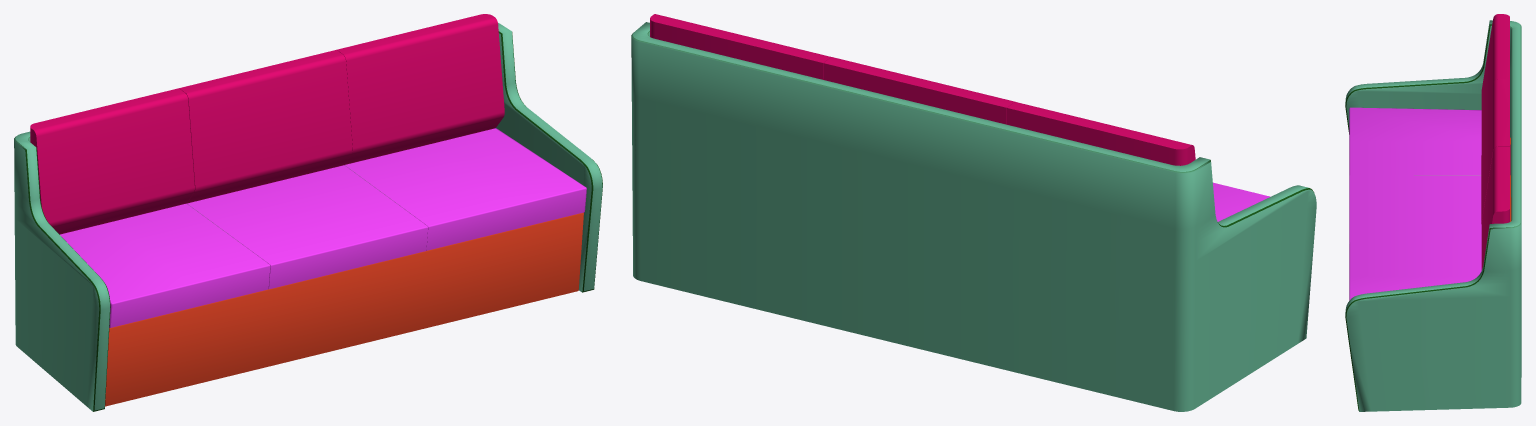
The model's file is sofa_waiting_room_1.glb.
3 renders of one model, left to right at view 1: azimuth 30°, elevation 25°; view 2: azimuth 150°, elevation 25°; view 3: azimuth 270°, elevation 25°, orthographic. The views are drawn at different scales.
Parts seen in each view (by area): view 1: Waiting room furniture; view 2: Waiting room furniture; view 3: Waiting room furniture.
Boxes of the visible parts, box(x1,y1,x2,y2) form: Waiting room furniture: box(14, 14, 602, 411); Waiting room furniture: box(631, 14, 1316, 411); Waiting room furniture: box(1345, 14, 1521, 411).
Bounding box in the file's own units: 2.14 × 0.8912 × 0.7405.
